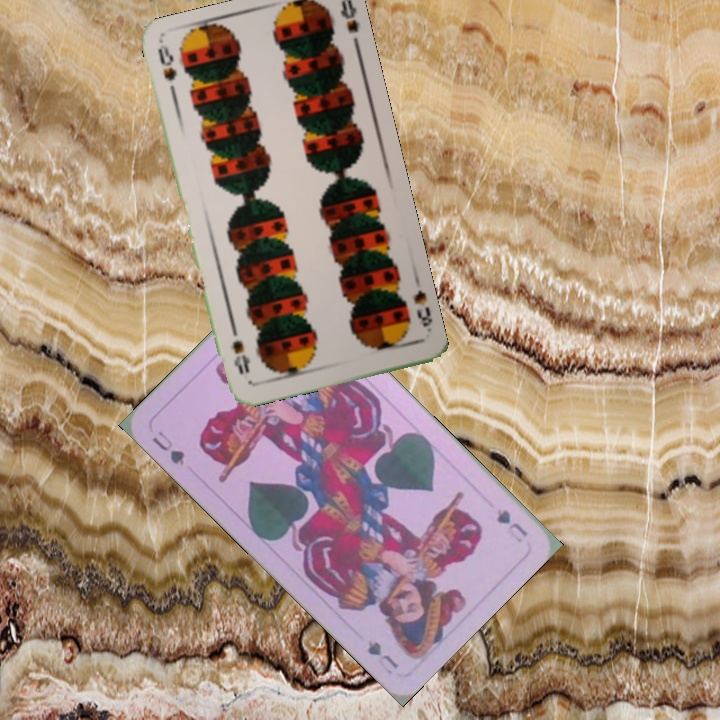GU: (492, 504, 531, 546), (148, 427, 187, 468)
S8: (153, 42, 179, 101), (409, 285, 435, 335)
